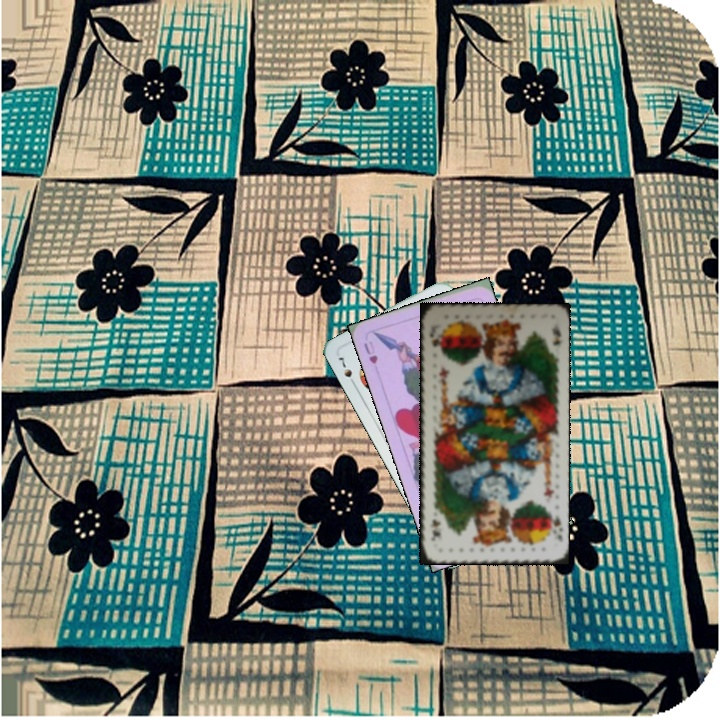HU: (360, 337, 380, 366)
S7: (333, 353, 359, 389)
SK: (544, 508, 564, 533), (425, 330, 444, 356)
